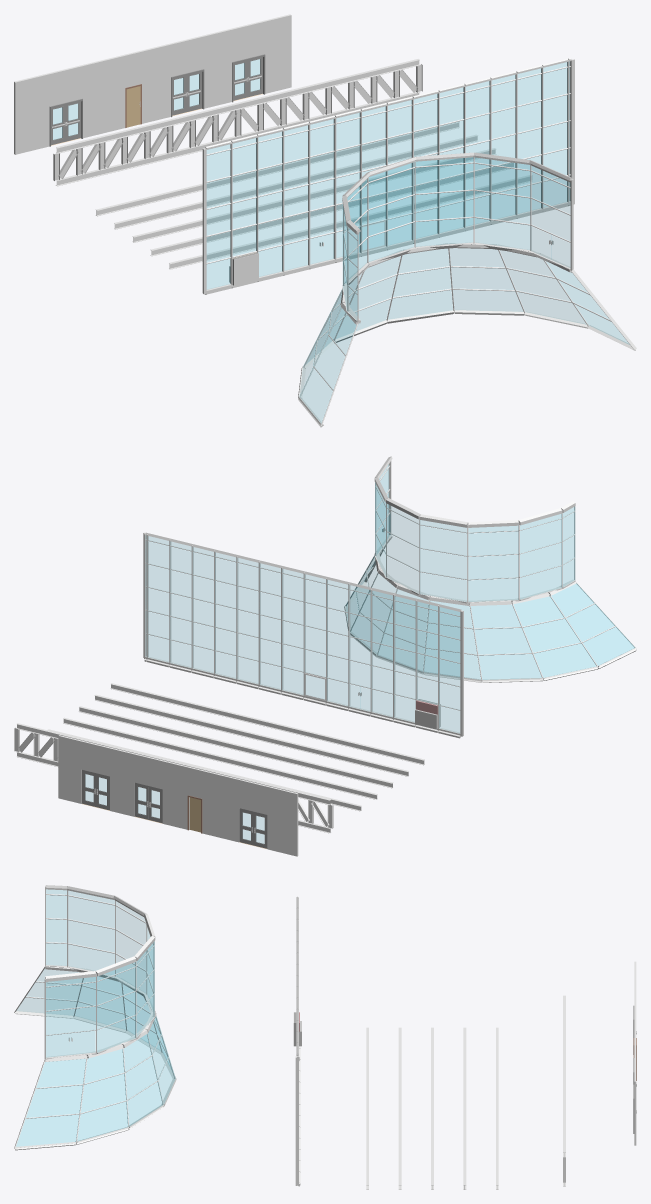
3 views of the same model, one above another, from view 1: azimuth 30°, elevation 25°; view 2: azimuth 150°, elevation 25°; view 3: azimuth 270°, elevation 25° (orthographic). The views are drawn at different scales.
Parts seen in each view (by area): view 1: 1Ci5AoYTz1Qu$H1Q1RKhsY, 1Ci5AoYTz1Qu$H1Q1RKgW3, 1Ci5AoYTz1Qu$H1Q1RKgcK, 1Ci5AoYTz1Qu$H1Q1RKgcI, 1Ci5AoYTz1Qu$H1Q1RKgcg, 1Ci5AoYTz1Qu$H1Q1RKgcM, 1Ci5AoYTz1Qu$H1Q1RKgce, 1Ci5AoYTz1Qu$H1Q1RKgW1, 1Ci5AoYTz1Qu$H1Q1RKhnI, 1Ci5AoYTz1Qu$H1Q1RKhng, 1Ci5AoYTz1Qu$H1Q1RKhnJ, 1Ci5AoYTz1Qu$H1Q1RKhnh (+54 smaller); view 2: 1Ci5AoYTz1Qu$H1Q1RKhsY, 1Ci5AoYTz1Qu$H1Q1RKgcK, 1Ci5AoYTz1Qu$H1Q1RKgcg, 1Ci5AoYTz1Qu$H1Q1RKgcM, 1Ci5AoYTz1Qu$H1Q1RKgce, 1Ci5AoYTz1Qu$H1Q1RKhmy, 1Ci5AoYTz1Qu$H1Q1RKhm_, 1Ci5AoYTz1Qu$H1Q1RKhn9, 1Ci5AoYTz1Qu$H1Q1RKhn8, 1Ci5AoYTz1Qu$H1Q1RKgW3, 1Ci5AoYTz1Qu$H1Q1RKhnK, 1Ci5AoYTz1Qu$H1Q1RKhni (+24 smaller); view 3: 1Ci5AoYTz1Qu$H1Q1RKhmW, 1Ci5AoYTz1Qu$H1Q1RKhmo, 1Ci5AoYTz1Qu$H1Q1RKhma, 1Ci5AoYTz1Qu$H1Q1RKhmr, 1Ci5AoYTz1Qu$H1Q1RKhnG, 1Ci5AoYTz1Qu$H1Q1RKhne, 1Ci5AoYTz1Qu$H1Q1RKhnD, 1Ci5AoYTz1Qu$H1Q1RKhmX, 1Ci5AoYTz1Qu$H1Q1RKhnN, 1Ci5AoYTz1Qu$H1Q1RKhnl, 1Ci5AoYTz1Qu$H1Q1RKhnh, 1Ci5AoYTz1Qu$H1Q1RKhnJ (+22 smaller).
Boxes of the visible parts, x1,y1,x2,y2 form: 1Ci5AoYTz1Qu$H1Q1RKhsY: [14, 14, 291, 154]; 1Ci5AoYTz1Qu$H1Q1RKgW3: [56, 59, 419, 153]; 1Ci5AoYTz1Qu$H1Q1RKgcK: [114, 134, 477, 229]; 1Ci5AoYTz1Qu$H1Q1RKgcI: [96, 121, 459, 216]; 1Ci5AoYTz1Qu$H1Q1RKgcg: [169, 175, 532, 269]; 1Ci5AoYTz1Qu$H1Q1RKgcM: [132, 148, 496, 242]; 1Ci5AoYTz1Qu$H1Q1RKgce: [150, 162, 514, 256]; 1Ci5AoYTz1Qu$H1Q1RKgW1: [56, 92, 419, 186]; 1Ci5AoYTz1Qu$H1Q1RKhnI: [416, 191, 472, 219]; 1Ci5AoYTz1Qu$H1Q1RKhng: [416, 164, 472, 192]; 1Ci5AoYTz1Qu$H1Q1RKhnJ: [475, 191, 529, 223]; 1Ci5AoYTz1Qu$H1Q1RKhnh: [475, 164, 529, 196]; 1Ci5AoYTz1Qu$H1Q1RKhsY: [58, 735, 298, 856]; 1Ci5AoYTz1Qu$H1Q1RKgcK: [63, 717, 377, 799]; 1Ci5AoYTz1Qu$H1Q1RKgcg: [110, 683, 424, 765]; 1Ci5AoYTz1Qu$H1Q1RKgcM: [79, 706, 393, 788]; 1Ci5AoYTz1Qu$H1Q1RKgce: [94, 694, 408, 776]; 1Ci5AoYTz1Qu$H1Q1RKhmy: [479, 654, 541, 679]; 1Ci5AoYTz1Qu$H1Q1RKhm_: [534, 644, 595, 676]; 1Ci5AoYTz1Qu$H1Q1RKhn9: [475, 628, 530, 653]; 1Ci5AoYTz1Qu$H1Q1RKhn8: [523, 619, 579, 651]; 1Ci5AoYTz1Qu$H1Q1RKgW3: [16, 723, 330, 805]; 1Ci5AoYTz1Qu$H1Q1RKhnK: [469, 555, 517, 578]; 1Ci5AoYTz1Qu$H1Q1RKhni: [469, 532, 517, 555]; 1Ci5AoYTz1Qu$H1Q1RKhmW: [17, 1115, 78, 1145]; 1Ci5AoYTz1Qu$H1Q1RKhmo: [26, 1086, 82, 1117]; 1Ci5AoYTz1Qu$H1Q1RKhma: [78, 1102, 127, 1140]; 1Ci5AoYTz1Qu$H1Q1RKhmr: [81, 1074, 125, 1112]; 1Ci5AoYTz1Qu$H1Q1RKhnG: [46, 1007, 95, 1034]; 1Ci5AoYTz1Qu$H1Q1RKhne: [46, 983, 95, 1010]; 1Ci5AoYTz1Qu$H1Q1RKhnD: [37, 1059, 85, 1087]; 1Ci5AoYTz1Qu$H1Q1RKhmX: [46, 1031, 94, 1056]; 1Ci5AoYTz1Qu$H1Q1RKhnN: [69, 921, 114, 951]; 1Ci5AoYTz1Qu$H1Q1RKhnl: [69, 897, 114, 927]; 1Ci5AoYTz1Qu$H1Q1RKhnh: [97, 968, 135, 1004]; 1Ci5AoYTz1Qu$H1Q1RKhnJ: [97, 992, 135, 1028].
Size of the model in its own units: 23.88 by 9.54 by 35.16.
